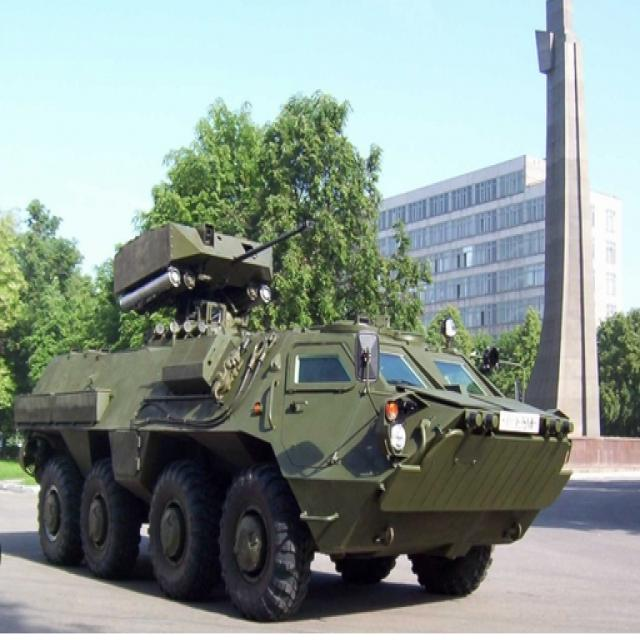MIL_APC: (21, 241, 584, 612)
